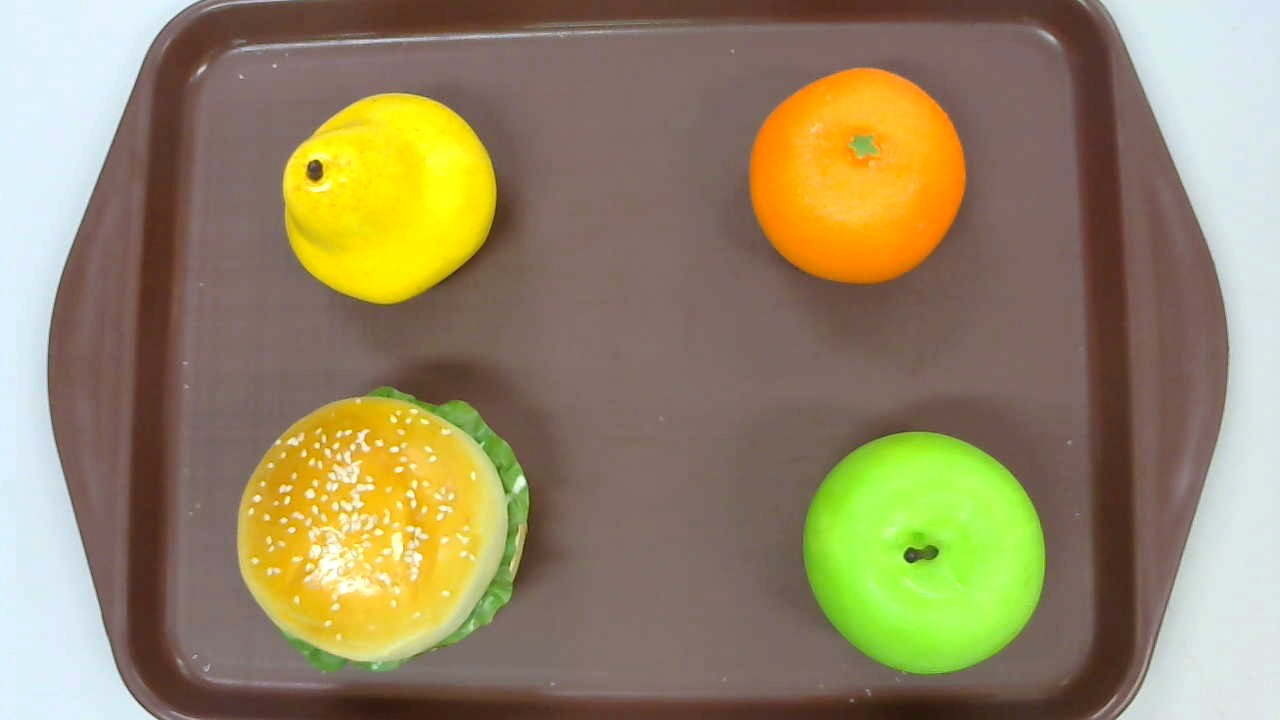green apple: (803, 432, 1043, 674)
hamburger: (235, 385, 529, 673)
orange: (750, 66, 966, 285)
yellow pear: (282, 92, 497, 305)
